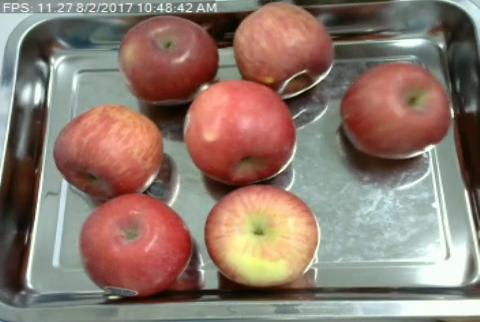apple: (204, 184, 321, 286), (182, 80, 297, 183), (79, 195, 191, 294), (340, 61, 451, 158), (52, 104, 163, 195), (233, 1, 333, 93), (117, 14, 221, 99)
